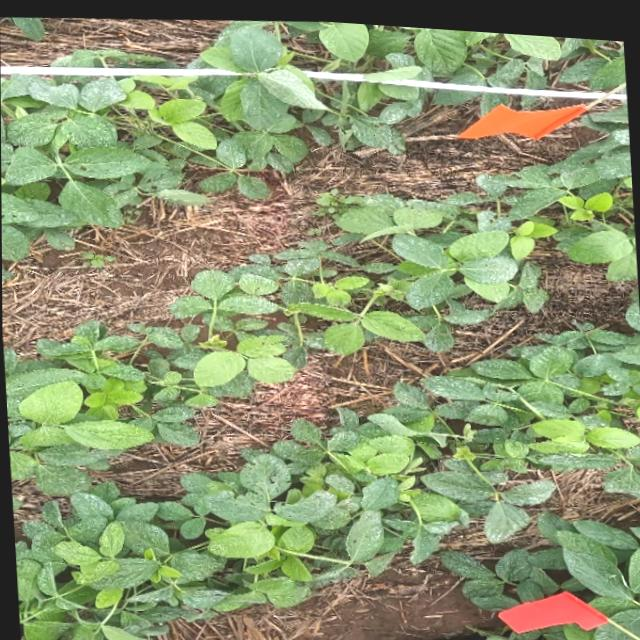soy_plant: (4, 126, 637, 493), (15, 288, 640, 640), (0, 20, 330, 259), (190, 16, 626, 165), (462, 507, 640, 628), (484, 615, 640, 640), (51, 46, 171, 64), (443, 547, 492, 567), (613, 591, 640, 626), (11, 16, 44, 39), (83, 250, 114, 265), (55, 76, 85, 82)
